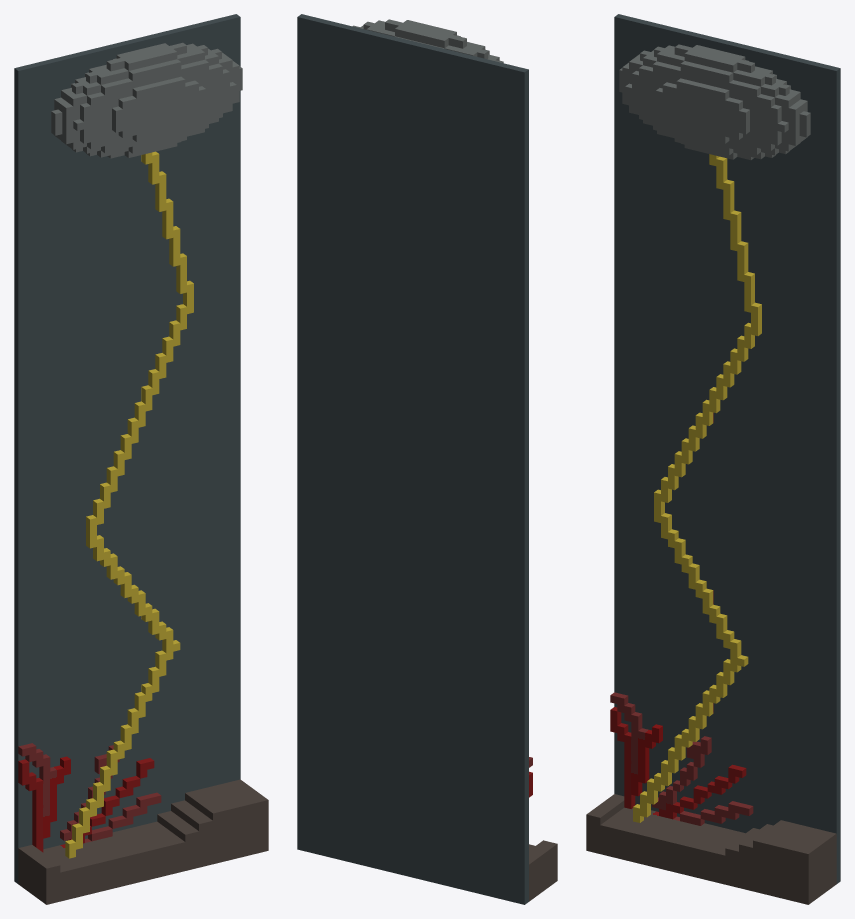
The model's file is scene_lightning.glb.
The picture shows the model from 3 angles, left to right: view 1: azimuth 30°, elevation 25°; view 2: azimuth 150°, elevation 25°; view 3: azimuth 330°, elevation 25°; orthographic projection. The views are drawn at different scales.
Visible parts, largest first — view 1: scene_lightning_24, scene_lightning_23; view 2: scene_lightning_24, scene_lightning_23; view 3: scene_lightning_24, scene_lightning_23.
Part boxes in pixels (left/top/right/bottom): scene_lightning_24: left=14, top=14, right=240, bottom=883; scene_lightning_23: left=18, top=42, right=268, bottom=904; scene_lightning_24: left=297, top=14, right=528, bottom=904; scene_lightning_23: left=352, top=19, right=557, bottom=901; scene_lightning_24: left=614, top=14, right=840, bottom=883; scene_lightning_23: left=586, top=44, right=836, bottom=904.
Size of the model in its own units: 3.2 by 11.2 by 0.8.
Materials: 1 (1 with a texture image).
